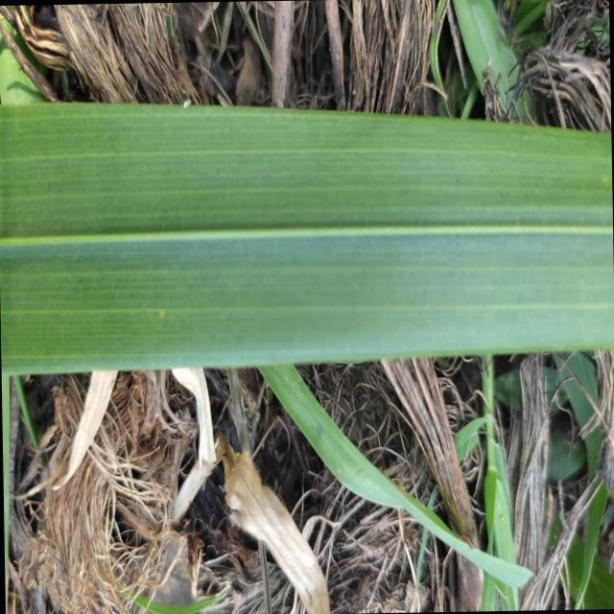Healthy: (0, 102, 614, 379)
